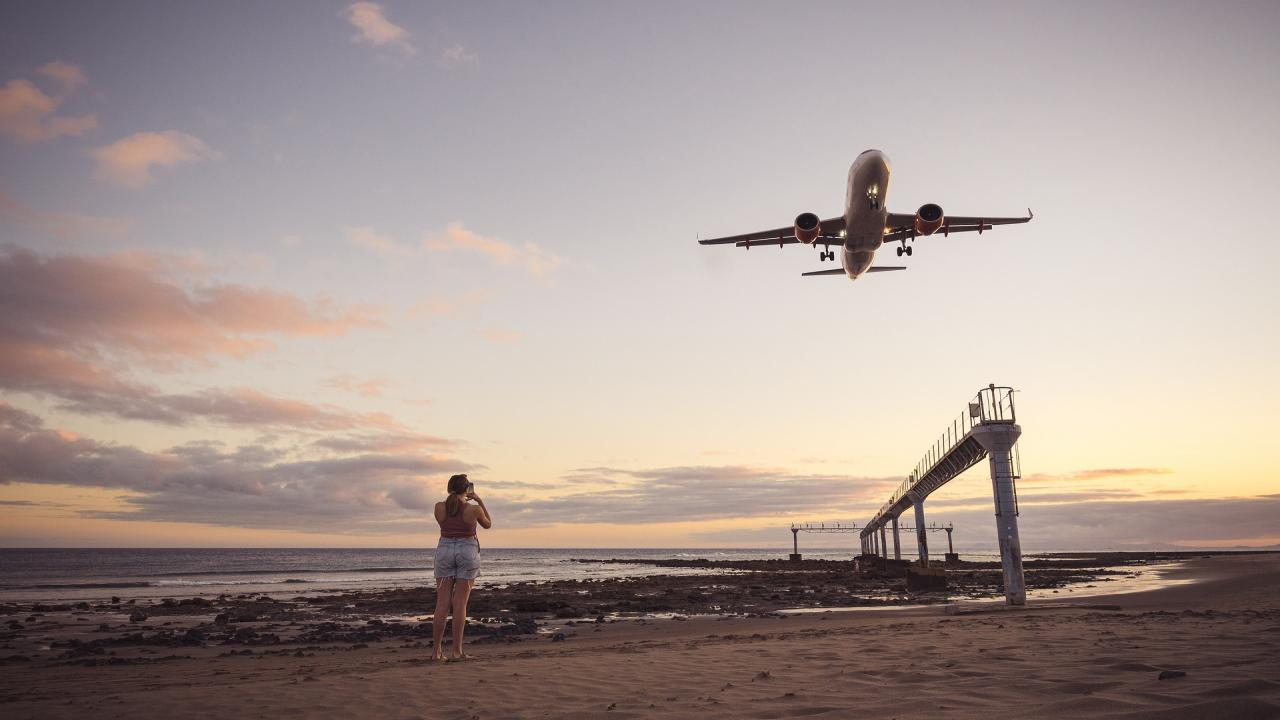Airplane: (688, 141, 1048, 289)
